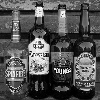beer: (27, 1, 54, 99)
